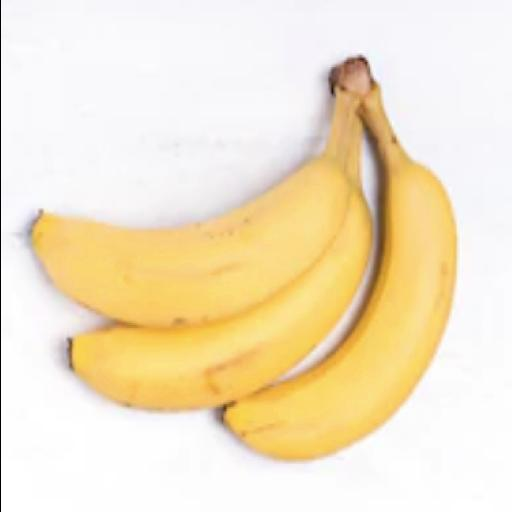banana: (70, 109, 371, 409), (224, 84, 456, 459), (32, 87, 358, 325)
